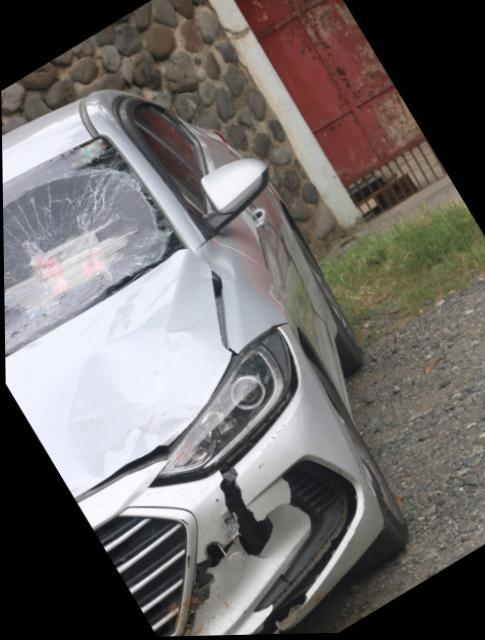crack: (196, 470, 288, 573), (259, 597, 305, 634)
dent: (65, 312, 229, 483)
glass shatter: (2, 136, 186, 354)
